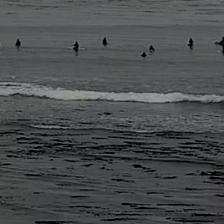surfer: (217, 36, 224, 43), (188, 38, 194, 46), (74, 41, 80, 49), (15, 38, 21, 46), (102, 37, 107, 45), (149, 45, 155, 51), (220, 45, 223, 56), (141, 52, 146, 57)
